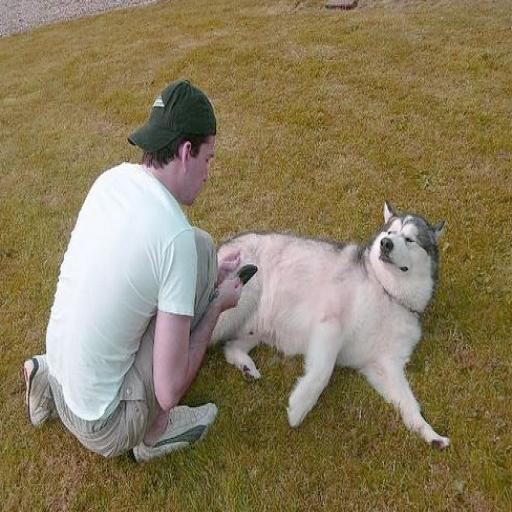dog_face: (375, 196, 447, 285)
